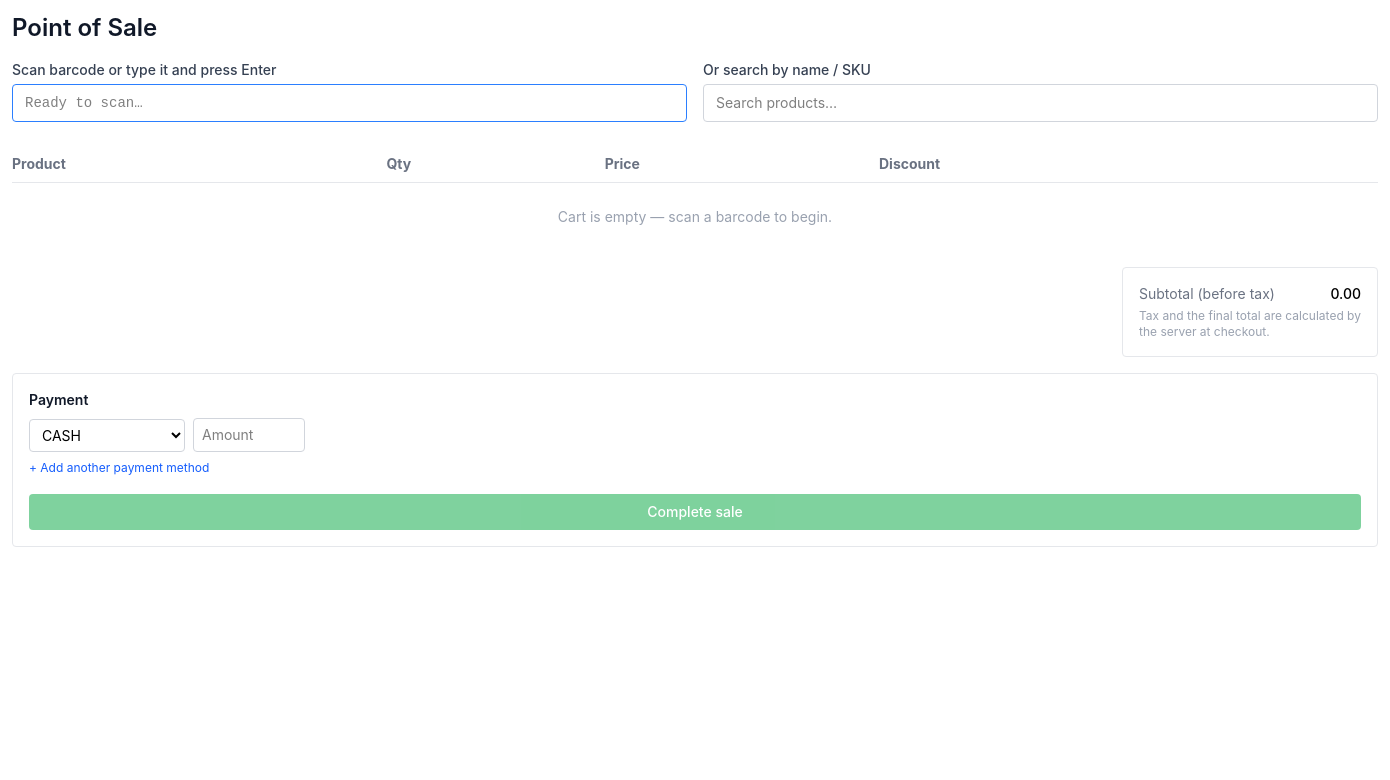
PosPage › shows an insufficient-stock error and keeps the cart on failed checkout
Type "444" into the field with placeholder "Ready to scan…" at (350, 103), box top-left (12, 84), bottom-right (687, 122)
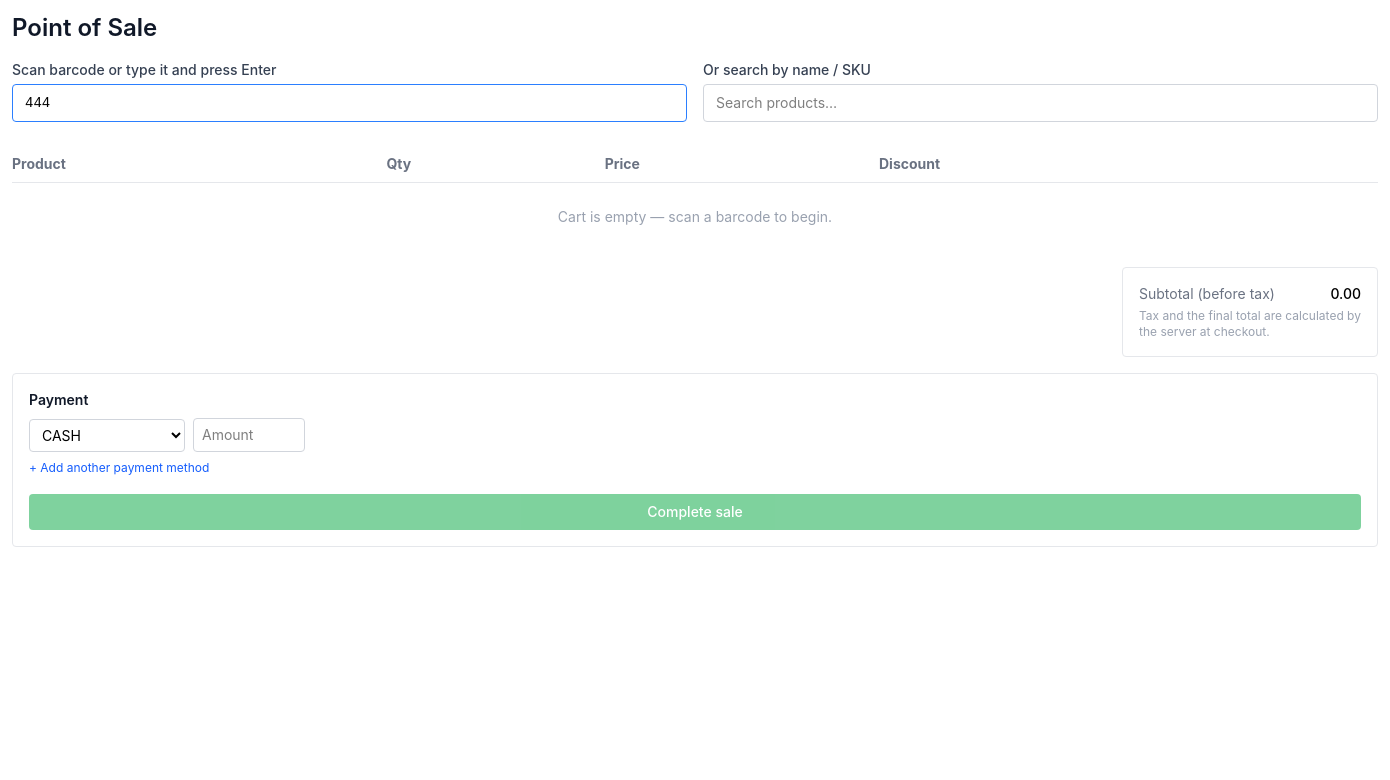
Press Enter in the field with placeholder "Ready to scan…", box top-left (12, 84), bottom-right (687, 122)
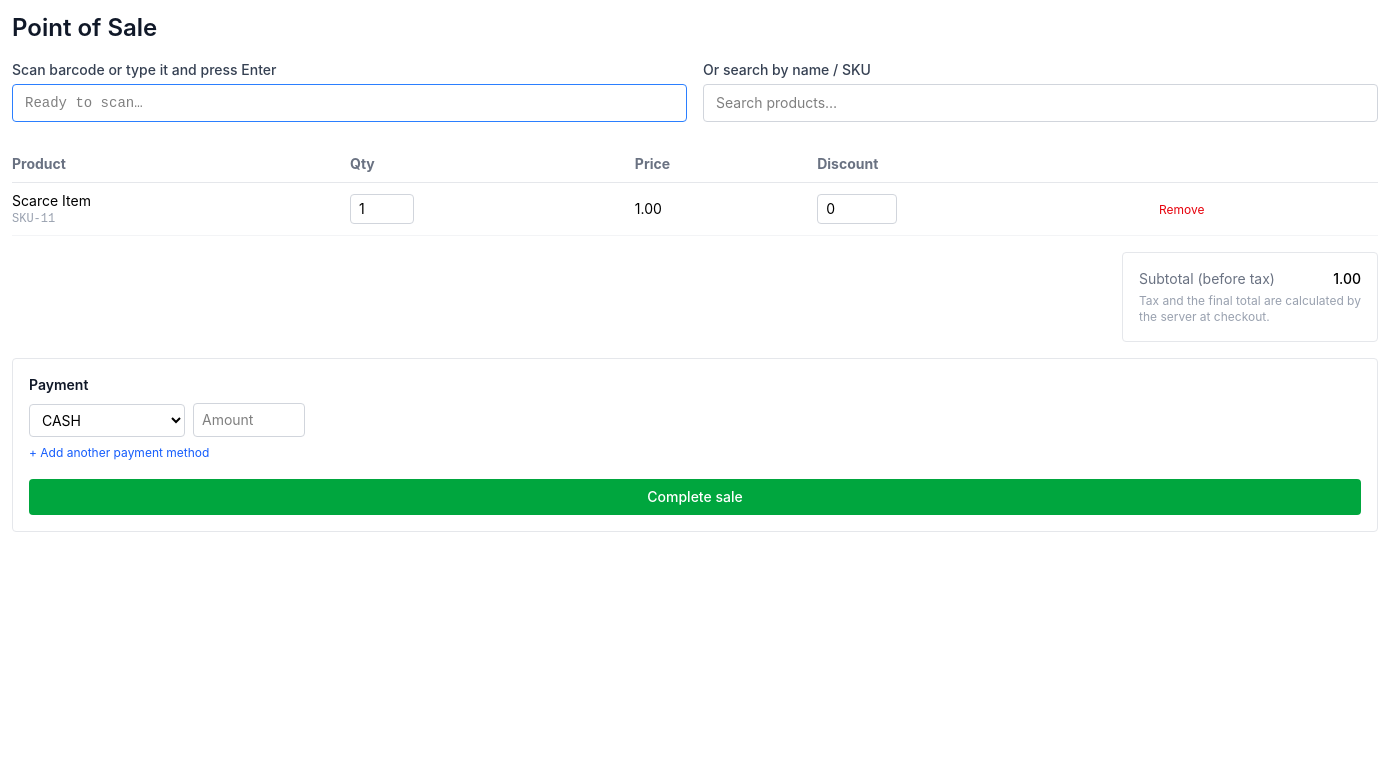
Expected: the text "Scarce Item" is shown, top-left (12, 192), bottom-right (91, 209)
Type "100.00" into the field with placeholder "Amount" at (249, 420), box top-left (193, 403), bottom-right (305, 437)
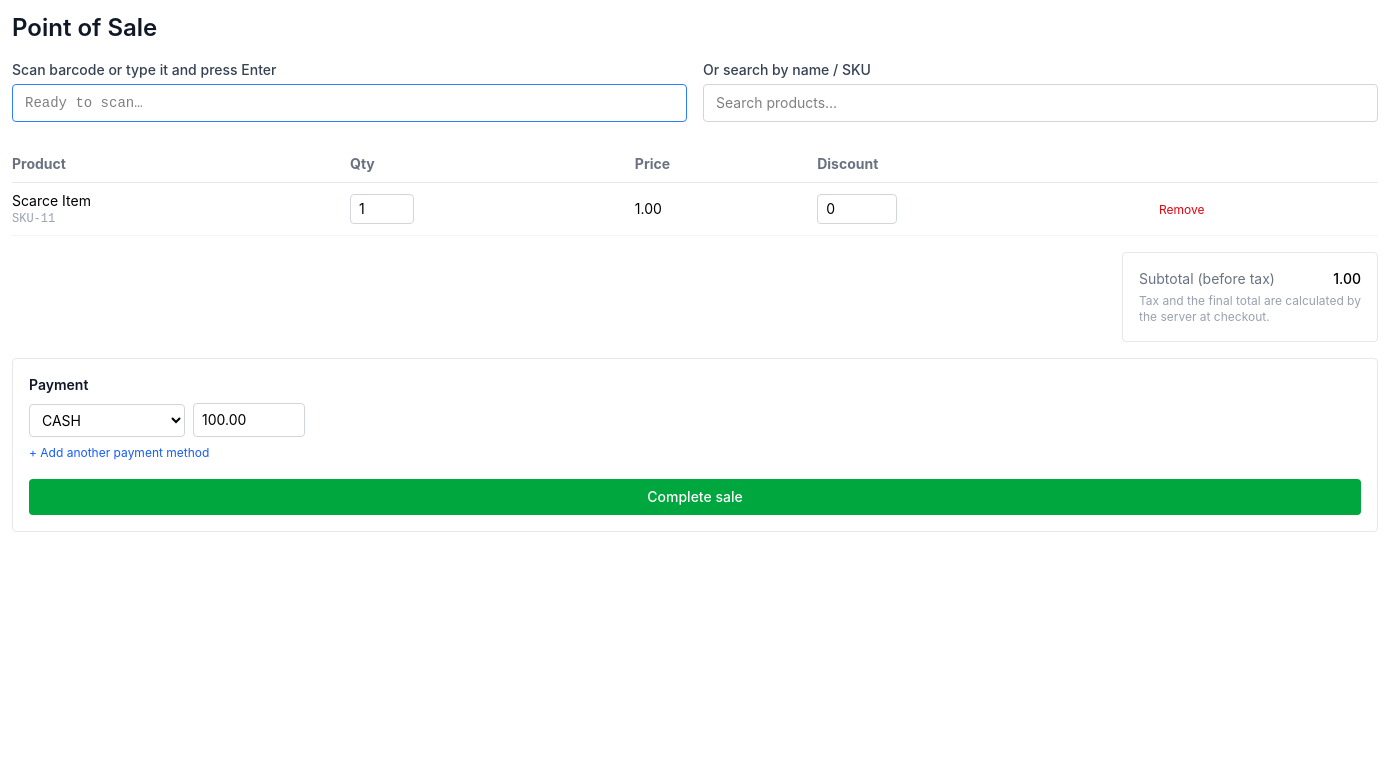
Click the button "Complete sale" at (695, 497), box top-left (29, 479), bottom-right (1361, 515)
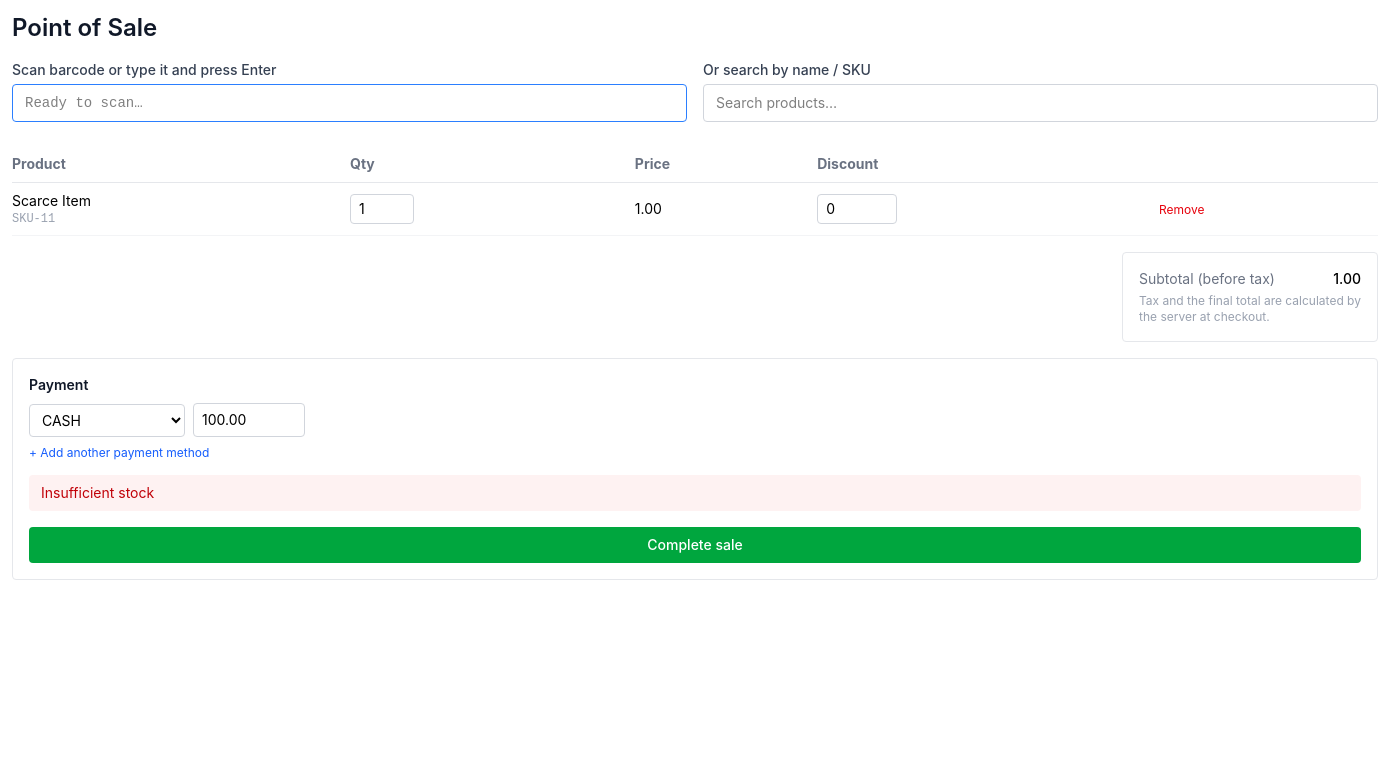
Expected: the text "Scarce Item" is shown, top-left (12, 192), bottom-right (91, 209)
Expected: the text "Insufficient stock" is shown, top-left (29, 475), bottom-right (1361, 511)
